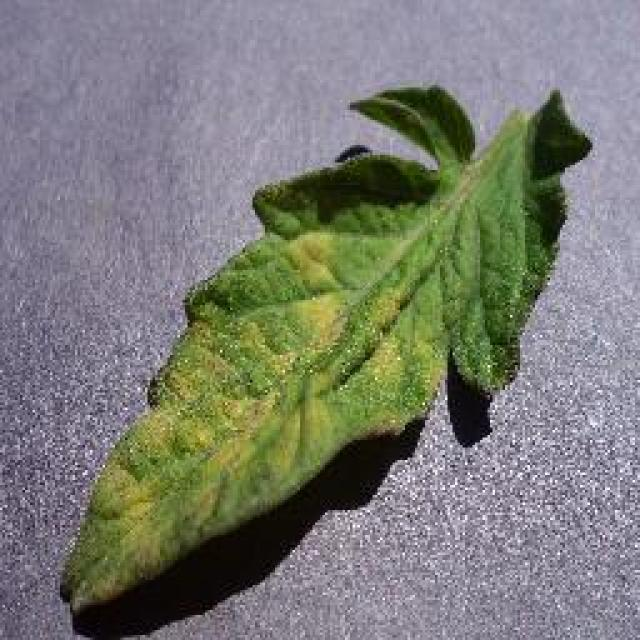leaf mold: (60, 89, 599, 610)
